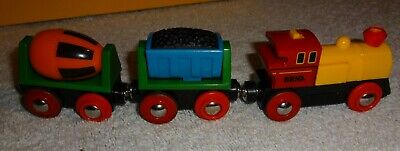brio: (251, 26, 393, 125)
